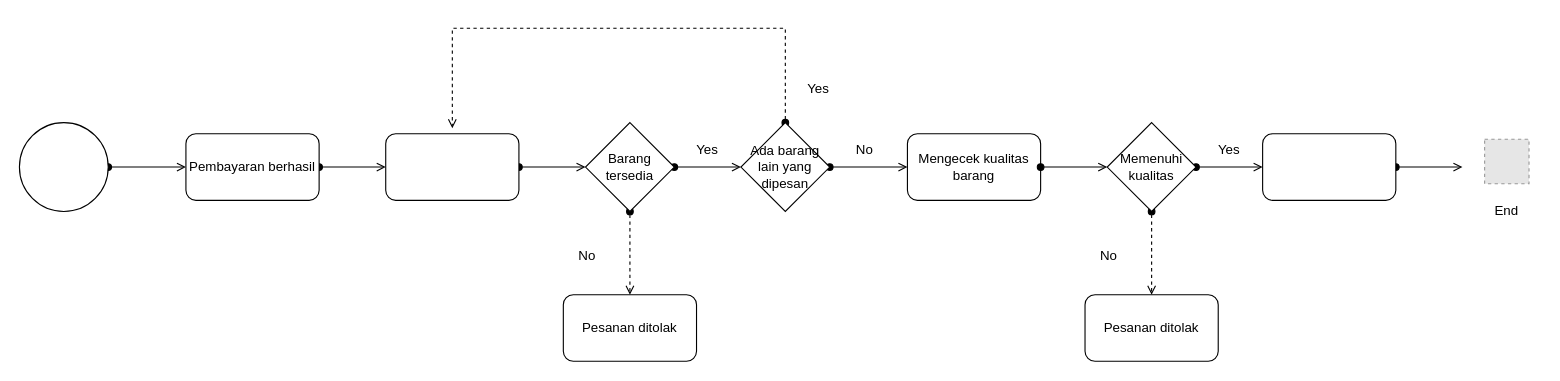
Image size: 1560x381. Some labels were removed from this diagram. Grey dashed boxes stand in for pictures. The box of each missing label's shape, as (x1, y1, x2, y2) in pixels:
Mengecek ketersediaan barang: (385, 133, 519, 200)
Merilis jadwal pickup: (1262, 133, 1396, 200)
Start: (18, 122, 108, 211)
